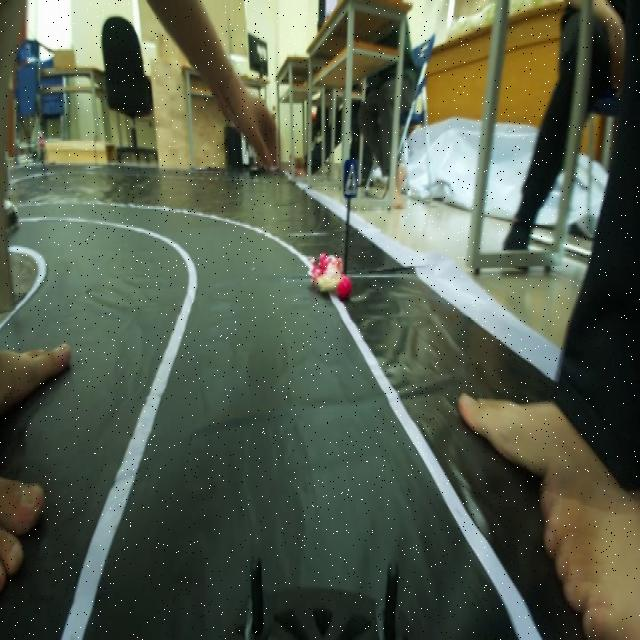crosswalk: (338, 153, 362, 207)
